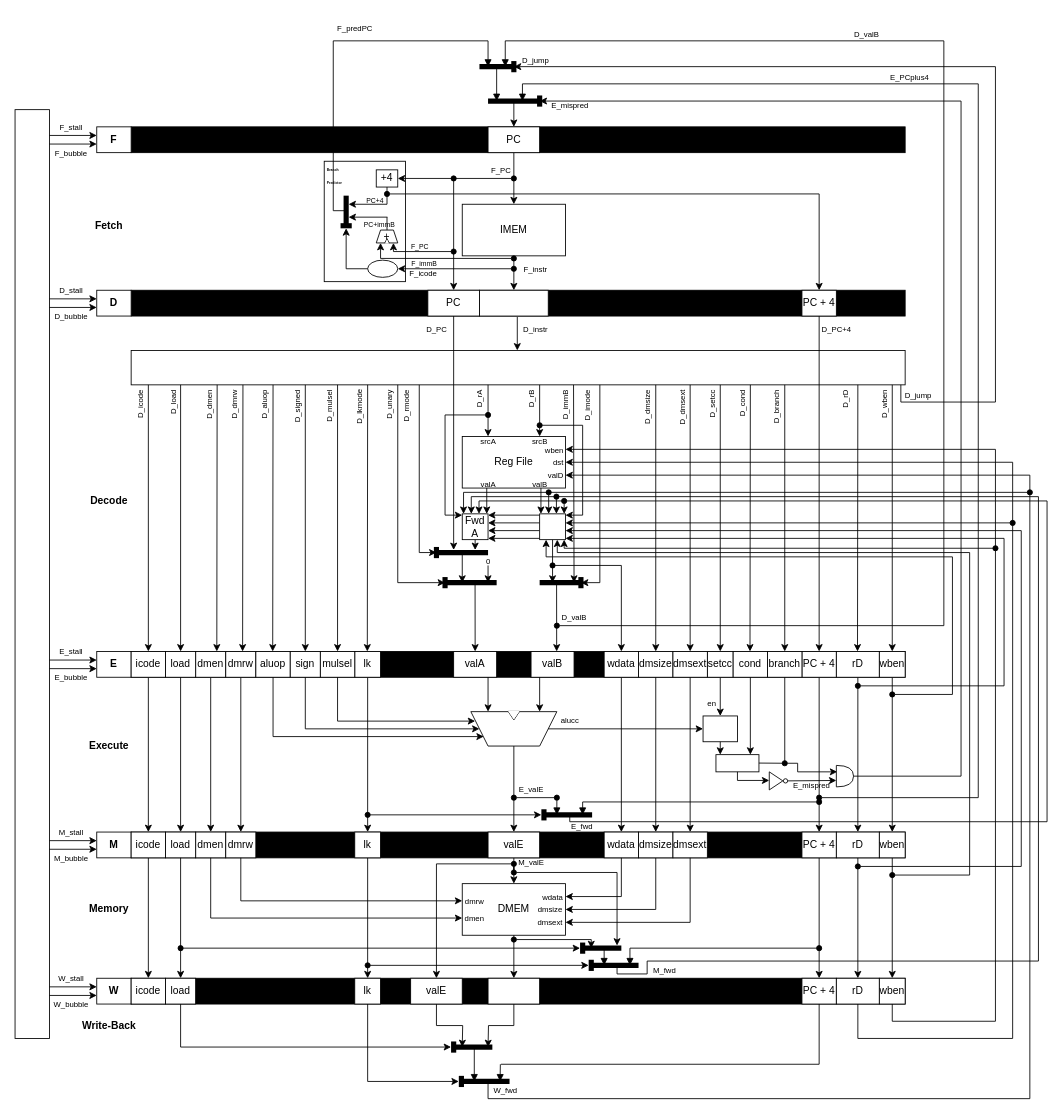
This 1063x1117 diagram has some shape labels left out. The centre of each missing label's shape, as x and y in pixels:
"?BR" belongs at pixel 382 268.
"ALU" belongs at pixel 513 728.
"Fwd B" belongs at pixel 552 526.
"Instr Decoder" belongs at pixel 517 367.
"IR" belongs at pixel 513 302.
"NZCV reg" belongs at pixel 719 728.
"Pipeline Controller" belongs at pixel 31 573.
"taken" belongs at pixel 737 763.
"valM" belongs at pixel 513 990.
